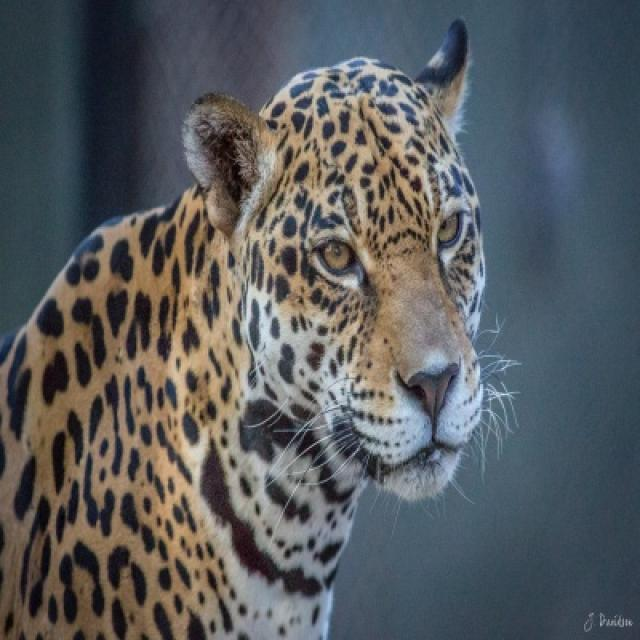Jaguar: (0, 21, 488, 638)
